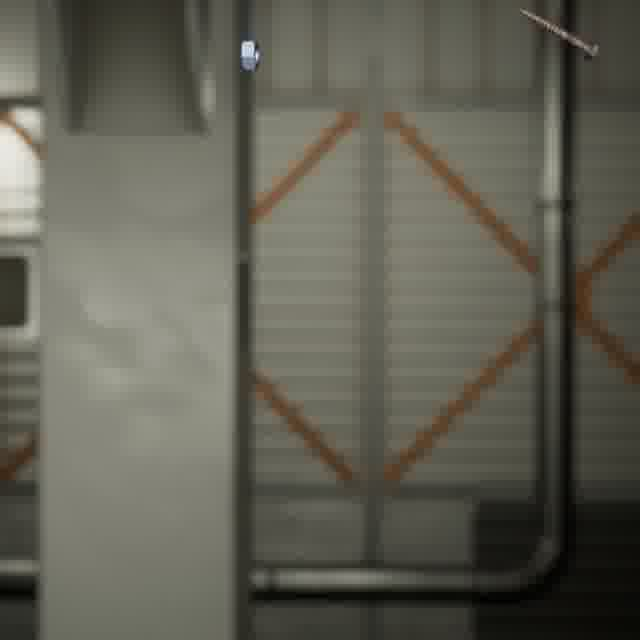bolt: (513, 3, 604, 66)
nut: (236, 36, 263, 74)
